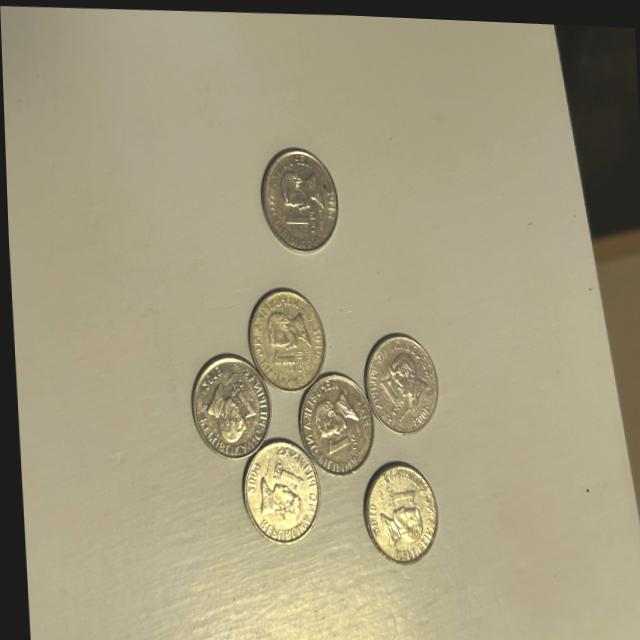1_Old_Front: (371, 368, 404, 414), (264, 452, 301, 493), (274, 201, 318, 235), (222, 372, 254, 418), (260, 343, 305, 373), (377, 477, 416, 508), (321, 424, 355, 454)
